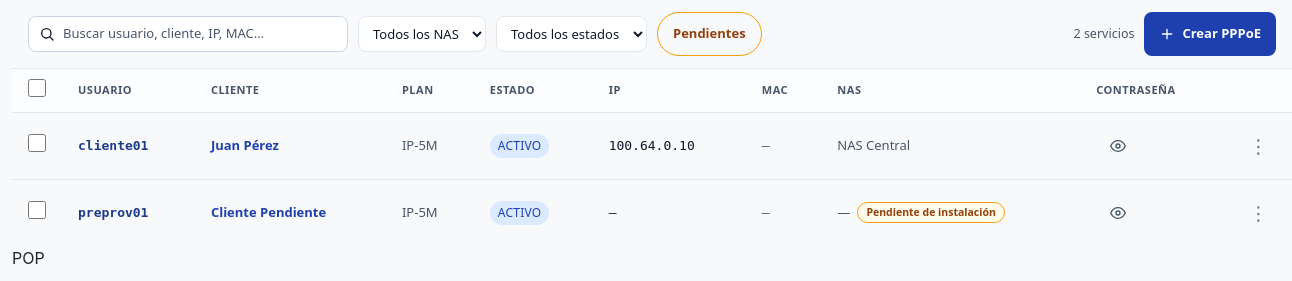
Test case: C1: chip "Pendientes" y el invariante anti-TOCTOU de la selección › (d) con el chip ON el contador muestra el TOTAL del server (ahora honesto)
Expected: the text "2 servicios" is shown, left=1074, top=25, right=1134, bottom=43
Click the button "Pendientes": (709, 34) left=657, top=12, right=762, bottom=56
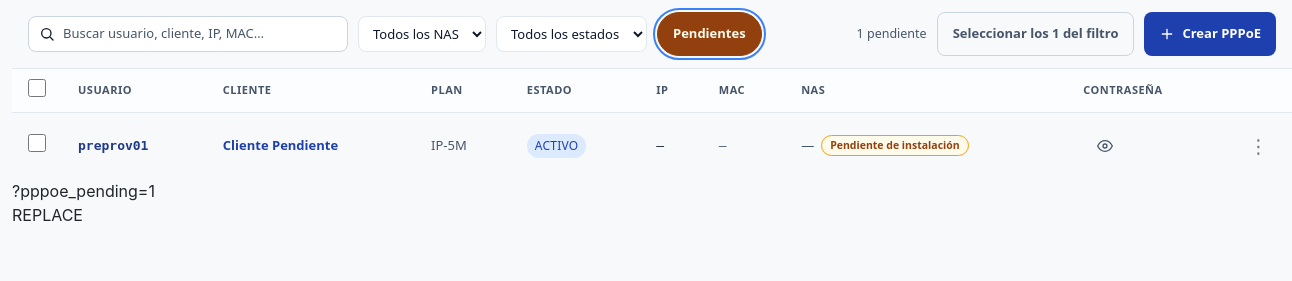
Result: the text "1 pendiente" is shown at left=856, top=25, right=927, bottom=43
Result: the text "2 servicios" is gone
